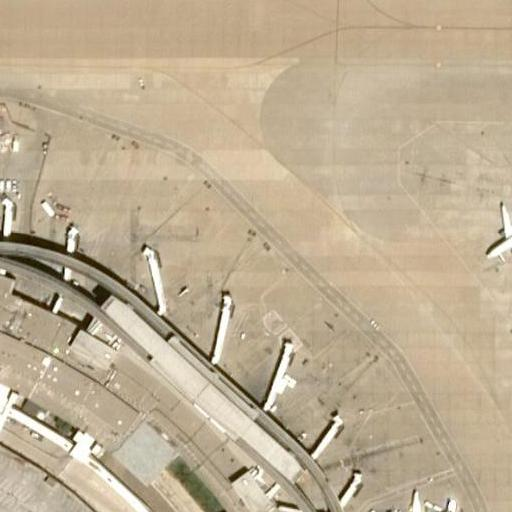Aircraft: (480, 200, 512, 266), (382, 490, 458, 512)
